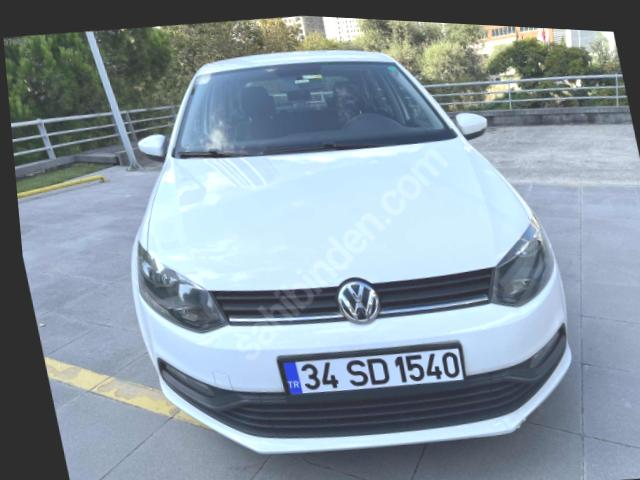plaka: (282, 347, 465, 395)
